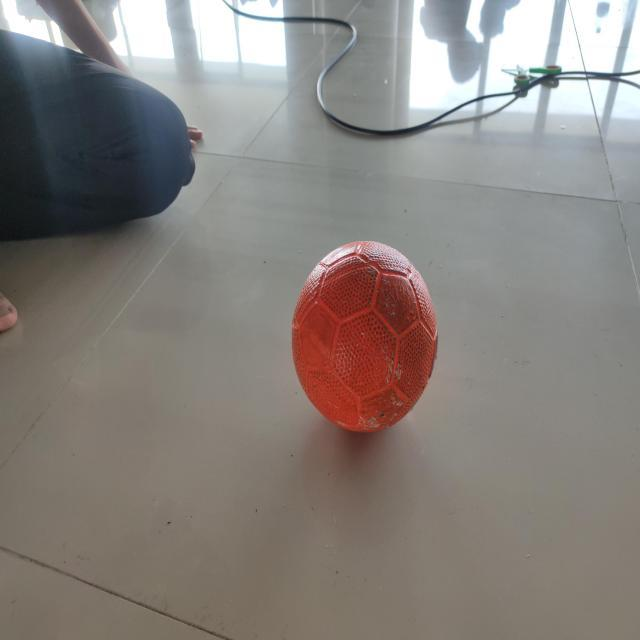bola: (284, 234, 446, 438)
